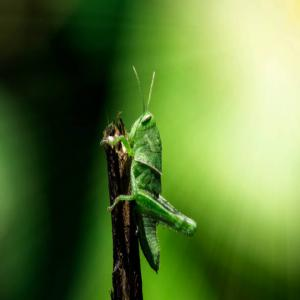locust: (107, 59, 202, 269)
